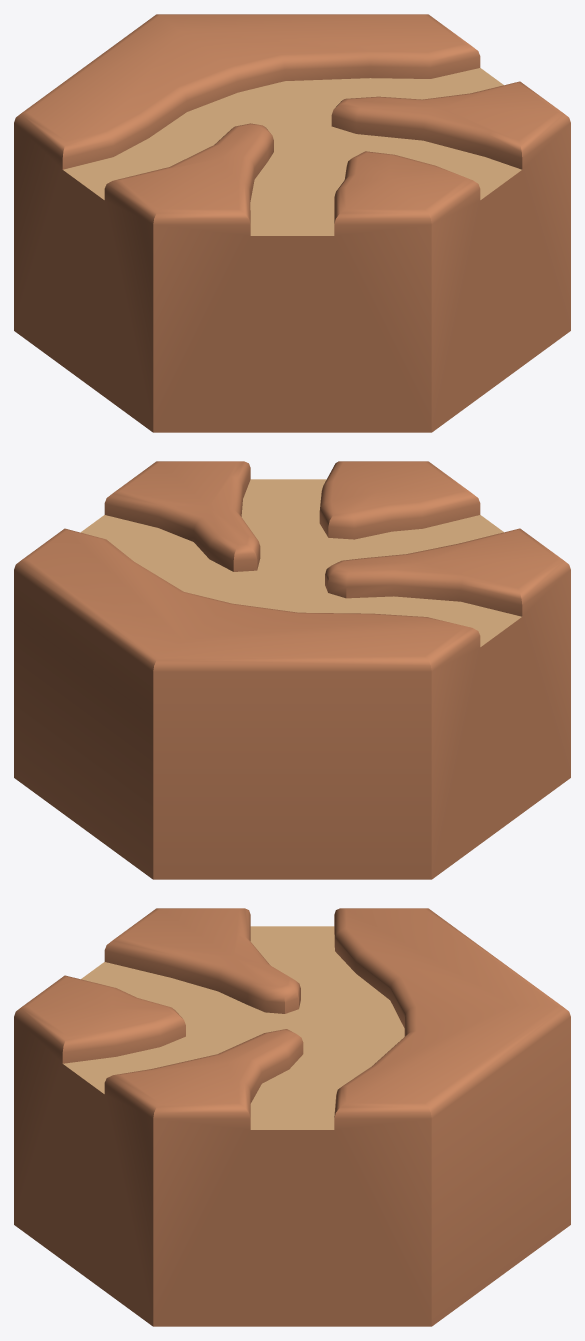
File: hex_rock_roadK.glb
The picture shows the model from 3 angles, top to bottom: view 1: azimuth 30°, elevation 25°; view 2: azimuth 150°, elevation 25°; view 3: azimuth 270°, elevation 25°; orthographic projection.
Parts seen in each view (by area): view 1: hex_rock_roadK; view 2: hex_rock_roadK; view 3: hex_rock_roadK.
Boxes of the visible parts, <box> form: hex_rock_roadK: <box>14,14,570,432</box>; hex_rock_roadK: <box>14,461,570,879</box>; hex_rock_roadK: <box>14,908,570,1326</box>.
Bounding box in the file's own units: 3.82 × 1.91 × 4.41.
